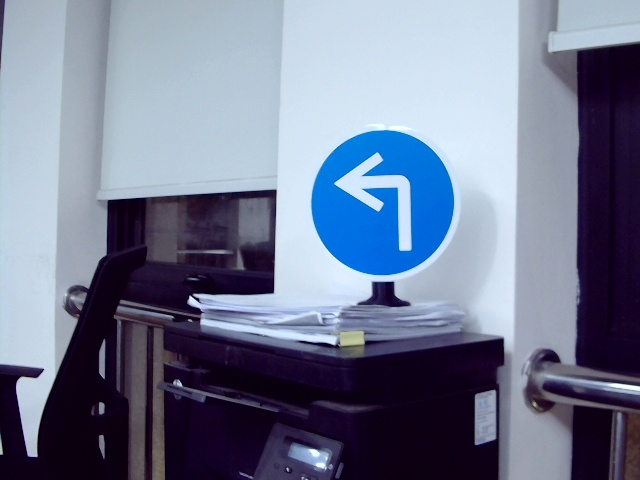turn_left: (335, 151, 418, 253)
